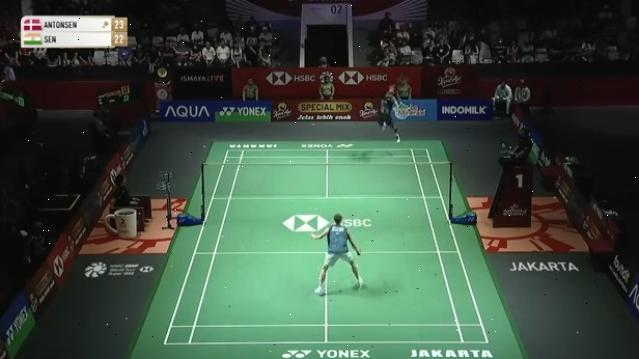Shuttlecock: (377, 37, 387, 47)
